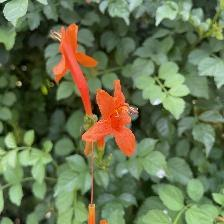honeysuckle: (93, 73, 142, 164)
